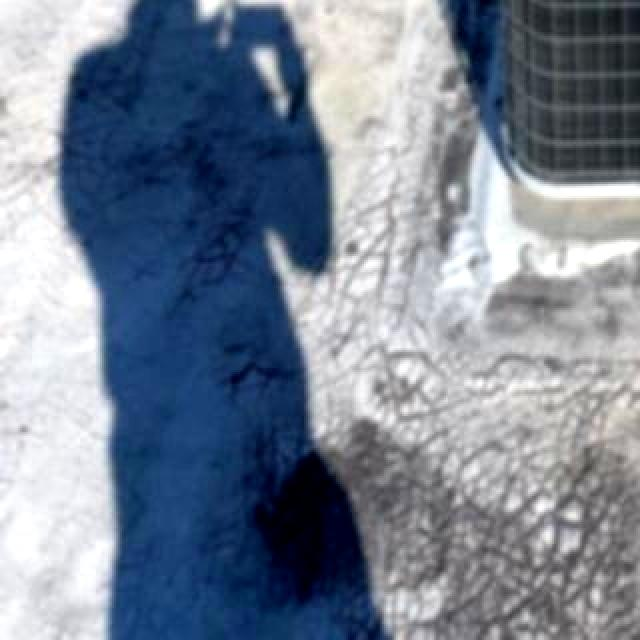SPLIT-SYSTEM: (478, 0, 640, 262)
